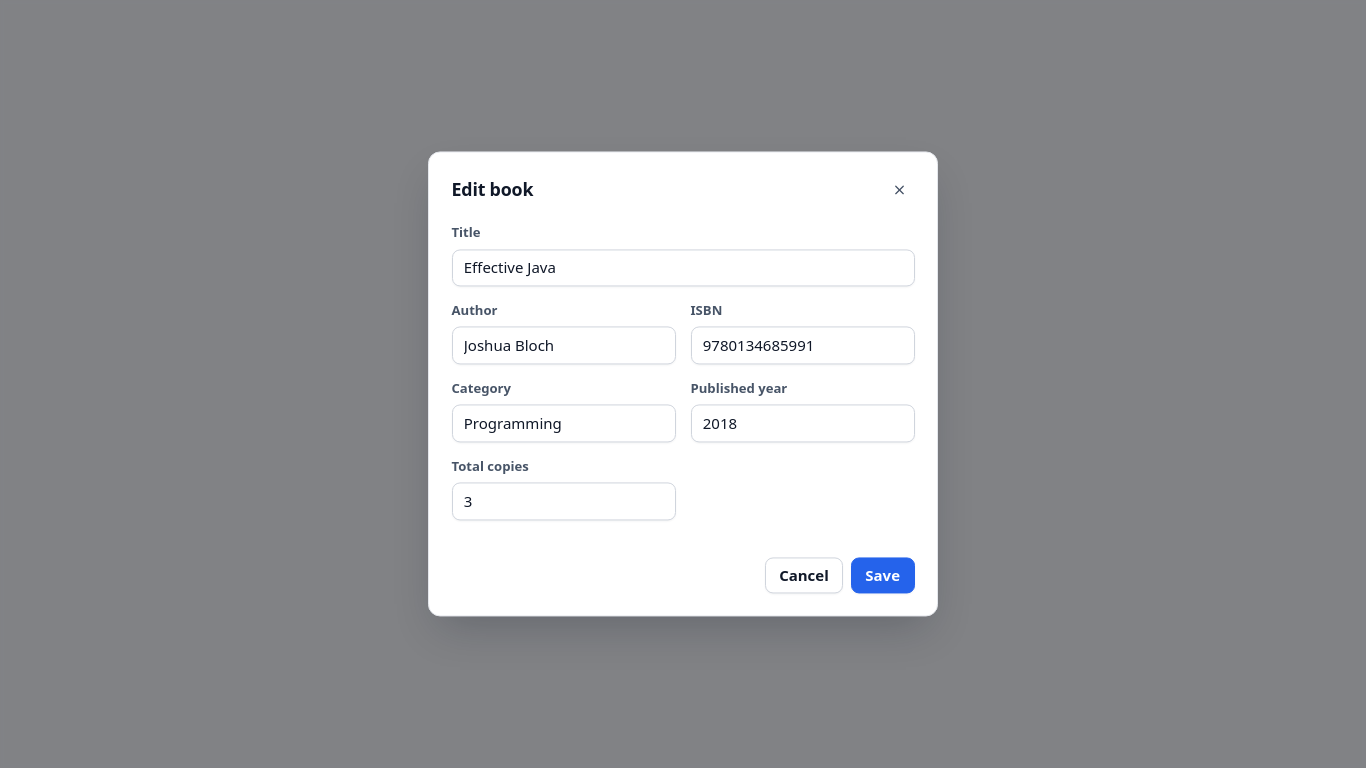
BookFormDialog › explains a rule the API enforces, such as copies on loan
Replace the text in the field labelled "Total copies" with "0". click: point(564, 501)
box: x1=452 y1=482 x2=676 y2=520
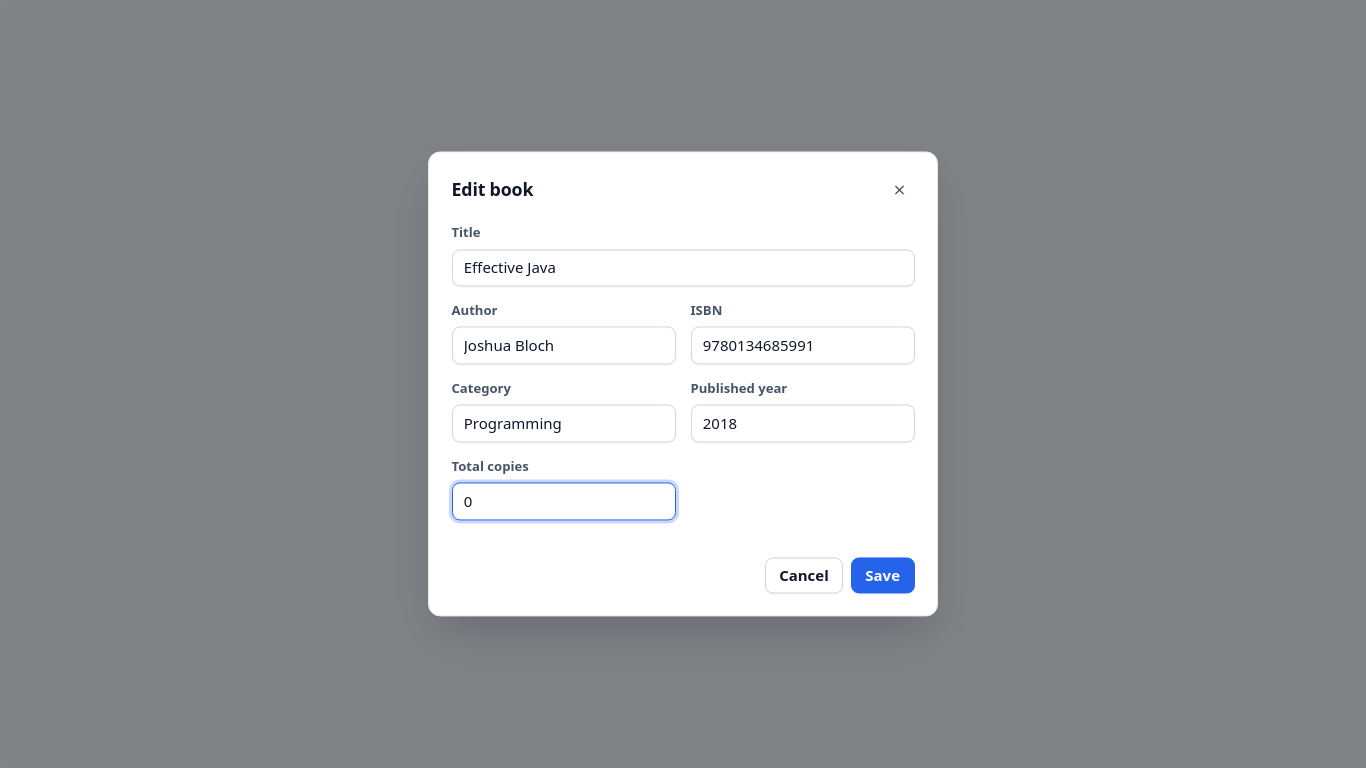
Click the button "Save". click: point(883, 575)
box: x1=851 y1=557 x2=914 y2=593
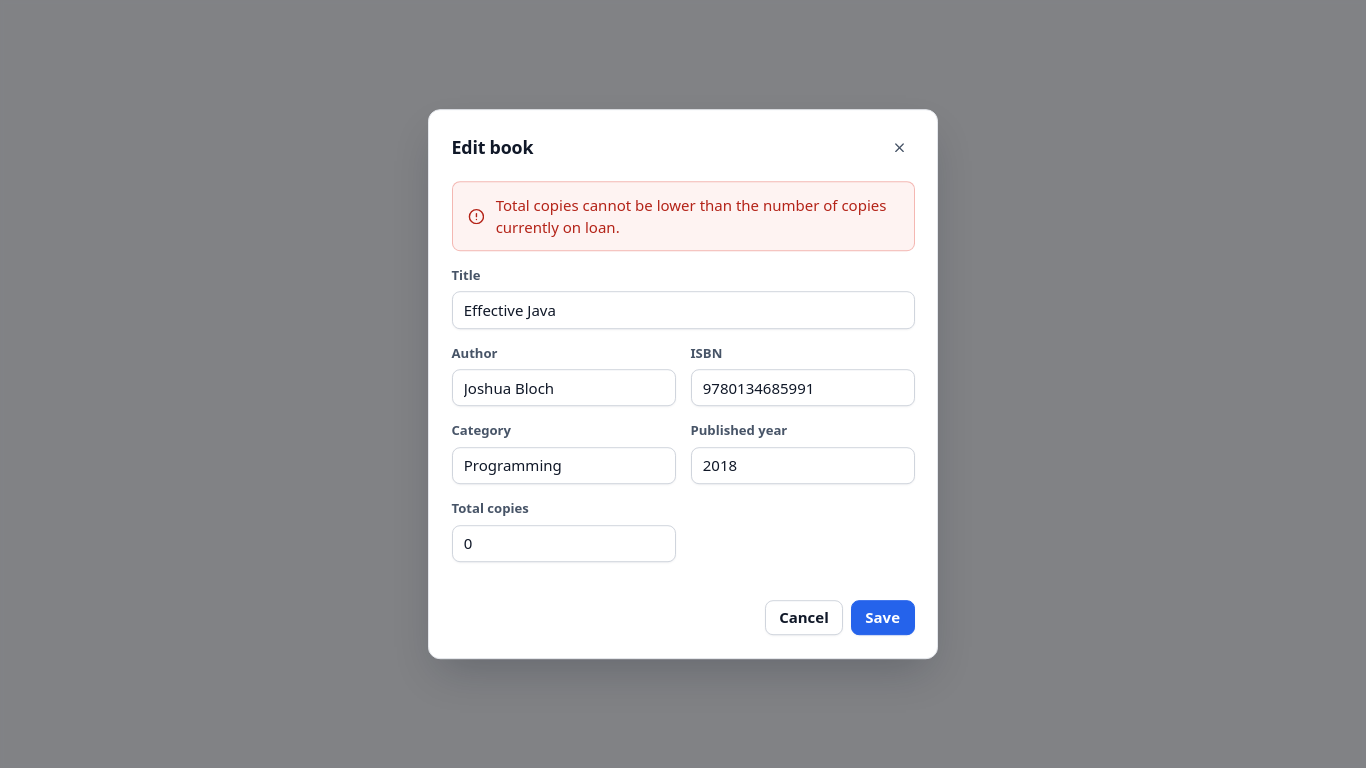
Expected: the message reads "Total copies cannot be lower than the number of copies currently on loan.", x1=496 y1=195 x2=886 y2=237
